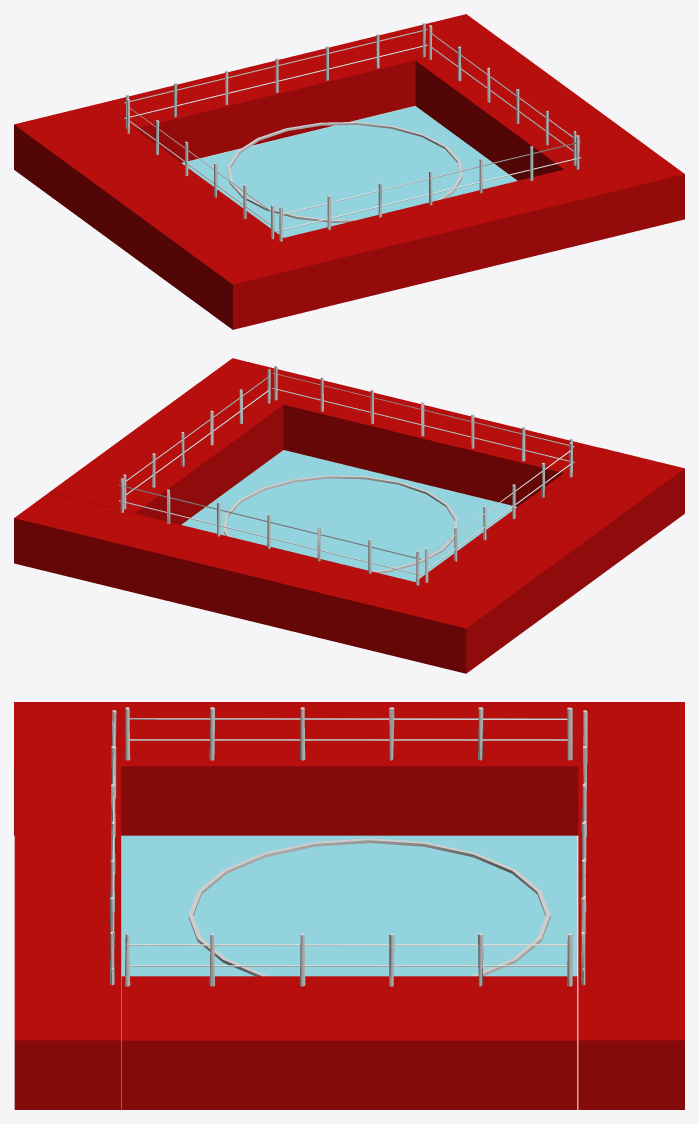
File: RedFountain.FBX
3 renders of one model, top to bottom at view 1: azimuth 30°, elevation 25°; view 2: azimuth 150°, elevation 25°; view 3: azimuth 270°, elevation 25°, orthographic. The views are drawn at different scales.
Visible parts, largest first — view 1: RED, Object01, Tube01; view 2: RED, Object01, Tube01; view 3: RED, Object01, Tube01.
Boxes of the visible parts, x1,y1,x2,y2 form: RED: (14,14,684,329); Object01: (124,22,580,241); Tube01: (227,122,462,222); RED: (14,358,684,673); Object01: (119,365,574,585); Tube01: (223,475,458,573); RED: (14,702,684,1109); Object01: (109,707,587,986); Tube01: (188,838,550,976).
Bounding box in the file's own units: 10.53 × 8.82 × 1.75.
